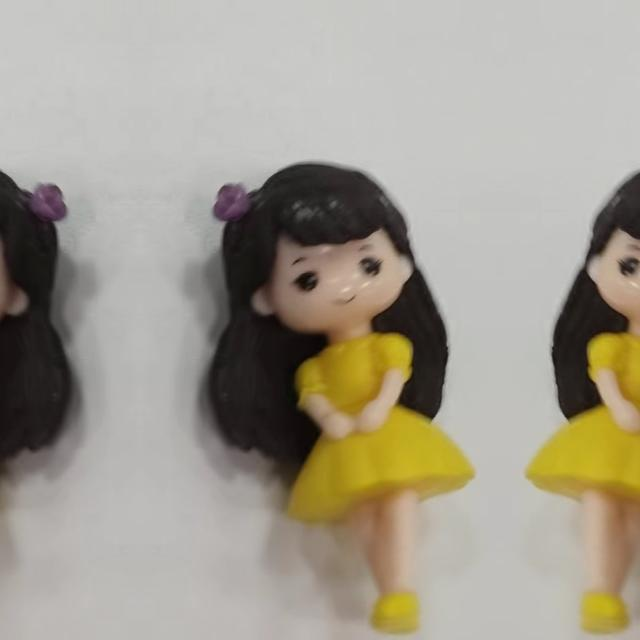woman dress: (288, 328, 472, 640), (528, 328, 640, 639)
woman head: (210, 160, 458, 330), (542, 159, 640, 330), (0, 159, 70, 330)
